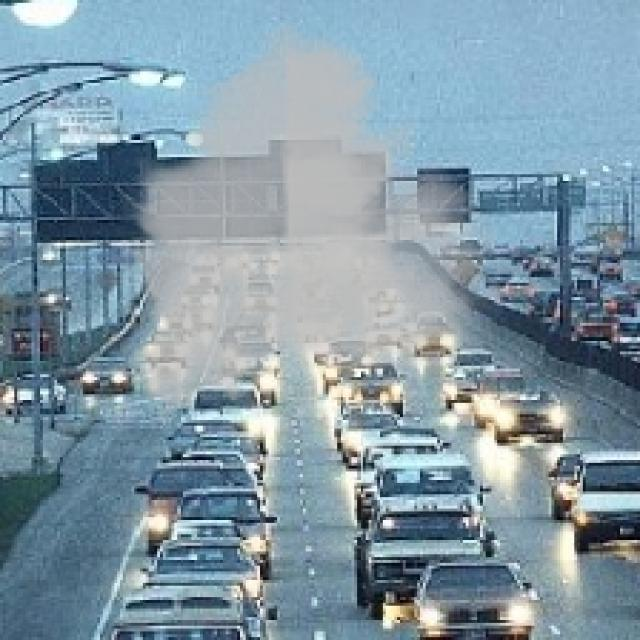Smoke: (117, 11, 503, 432)
